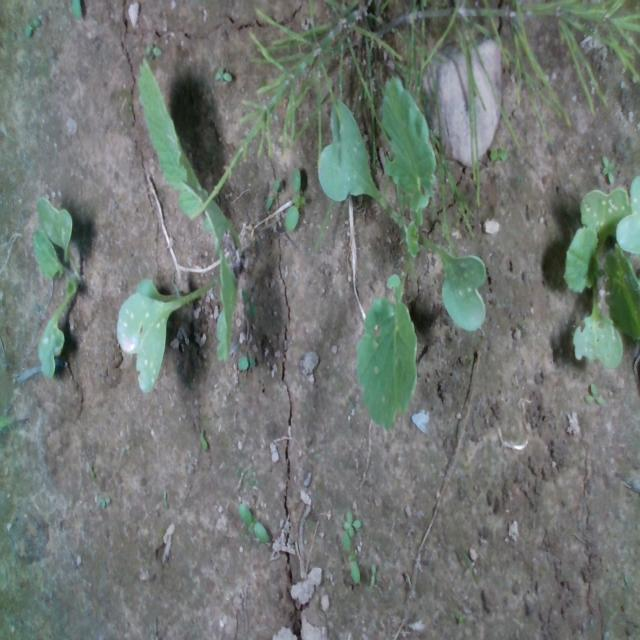weed: (283, 165, 305, 232), (236, 500, 268, 542), (600, 150, 616, 185), (582, 381, 604, 406), (264, 177, 280, 211), (213, 63, 232, 83), (489, 143, 508, 163), (24, 15, 40, 36), (237, 354, 257, 370), (369, 559, 377, 587), (199, 426, 207, 452), (98, 494, 111, 509)
